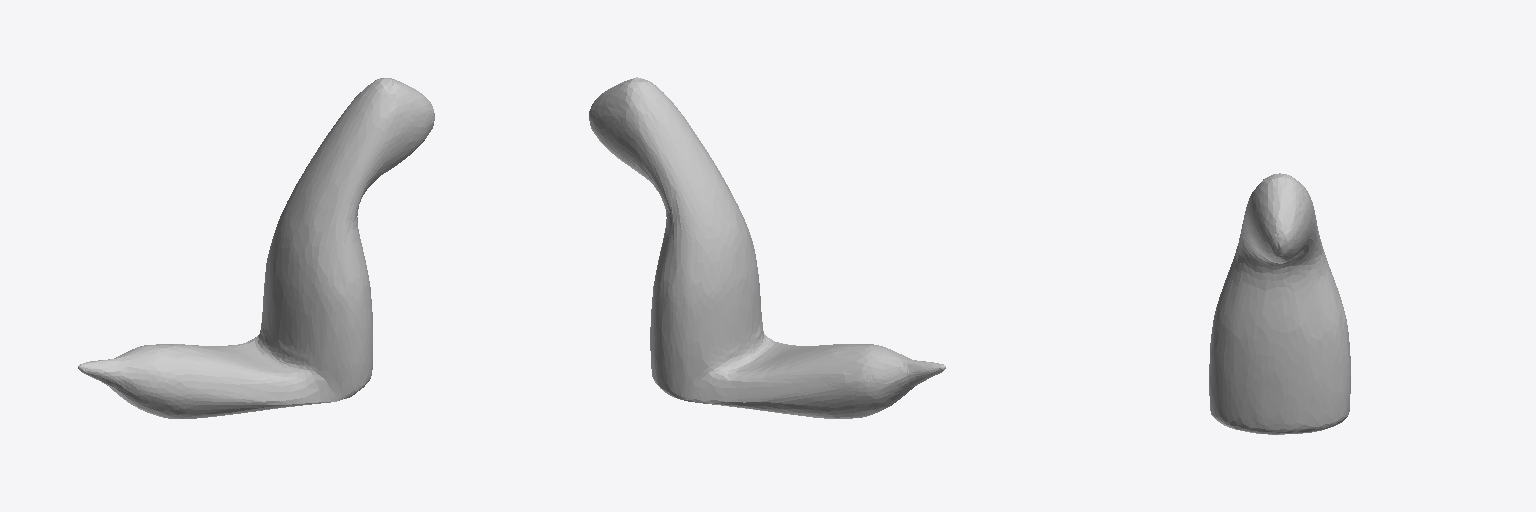
Rendered from Boss1.obj.
3 views of the same model, side by side, from view 1: azimuth 30°, elevation 25°; view 2: azimuth 150°, elevation 25°; view 3: azimuth 270°, elevation 25° (orthographic).
Parts seen in each view (by area): view 1: pSphere1; view 2: pSphere1; view 3: pSphere1.
Part boxes in pixels (bbox=[...]): pSphere1: bbox=[78, 78, 434, 418]; pSphere1: bbox=[589, 77, 945, 418]; pSphere1: bbox=[1209, 173, 1350, 434].
Size of the model in its own units: 11.41 by 8.83 by 3.94.